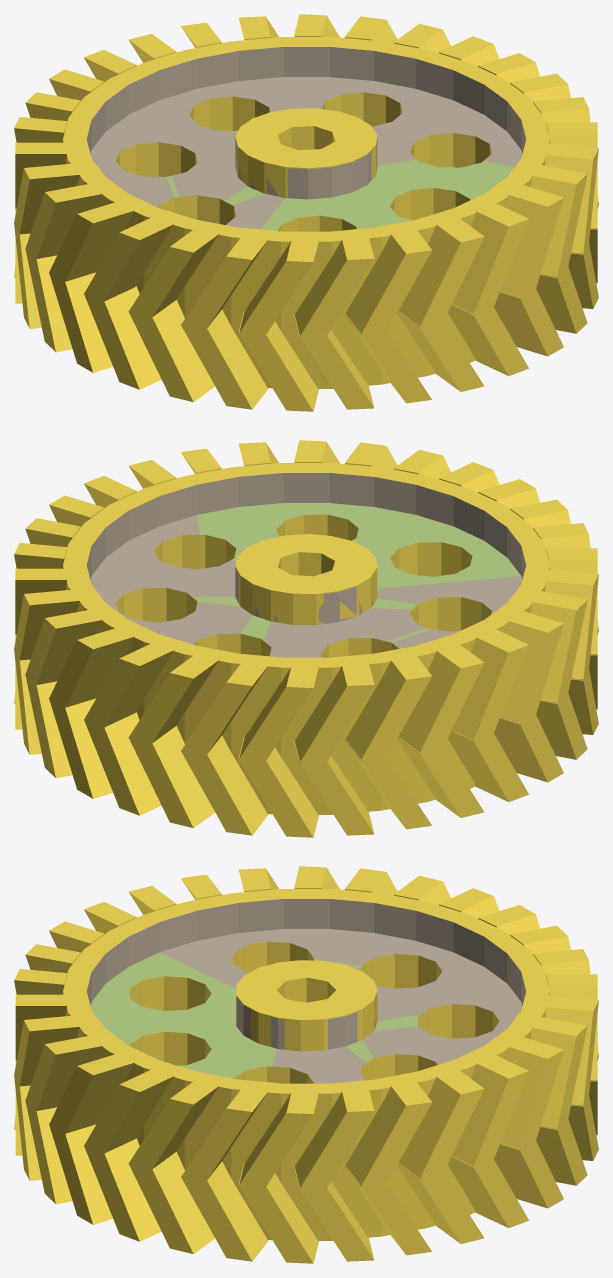
The model's file is openscad_gears-helical.glb.
3 views of the same model, one above another, from view 1: azimuth 30°, elevation 25°; view 2: azimuth 150°, elevation 25°; view 3: azimuth 270°, elevation 25° (orthographic).
Visible parts, largest first — view 1: object; view 2: object; view 3: object.
Boxes of the visible parts, box(x1,y1,x2,y2) form: object: box(14, 14, 598, 411); object: box(14, 440, 598, 837); object: box(14, 866, 598, 1263).
Bounding box in the file's own units: 49.4 × 13.9 × 49.25.
